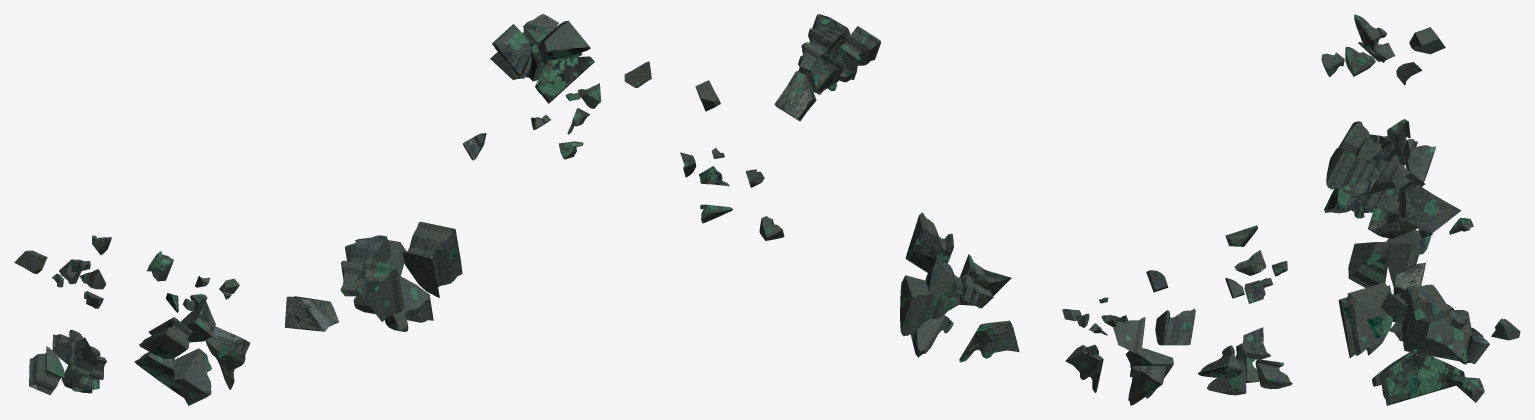
The model's file is Stage1_rocks.fbx.
3 views of the same model, side by side, from view 1: azimuth 30°, elevation 25°; view 2: azimuth 150°, elevation 25°; view 3: azimuth 270°, elevation 25° (orthographic). The views are drawn at different scales.
Visible parts, largest first — view 1: Cube_cell.017; view 2: Cube_cell.017; view 3: Cube_cell.017.
Part boxes in pixels (<box>): Cube_cell.017: <box>14,14,651,405</box>; Cube_cell.017: <box>680,14,1292,405</box>; Cube_cell.017: <box>1321,14,1520,405</box>.
Size of the model in its own units: 8296 by 3944 by 2050.
